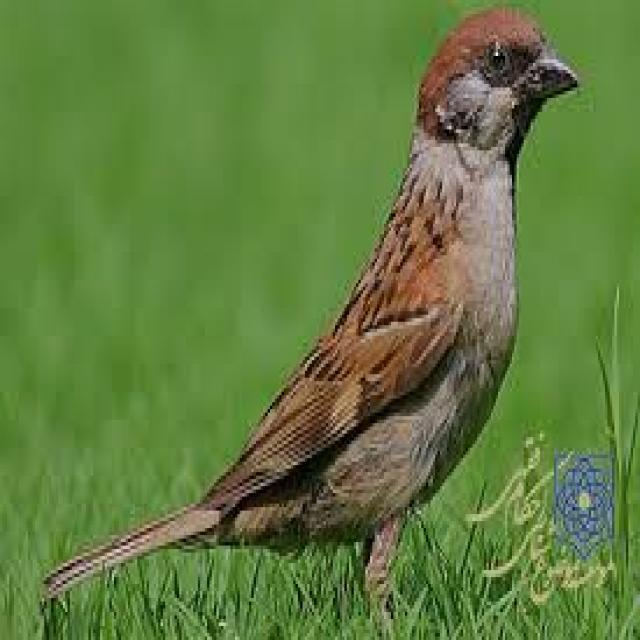bird: (19, 0, 576, 640)
